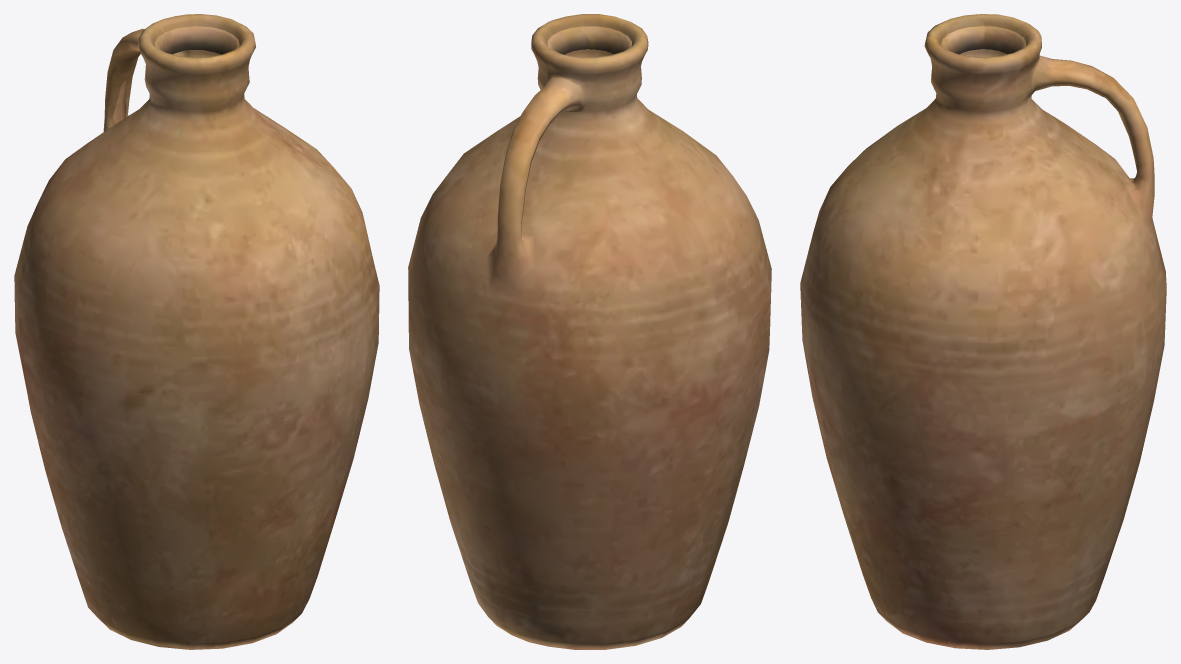
The picture shows the model from 3 angles, left to right: view 1: azimuth 30°, elevation 25°; view 2: azimuth 150°, elevation 25°; view 3: azimuth 270°, elevation 25°; orthographic projection.
Visible parts, largest first — view 1: SM_Pot_02_LOD0; view 2: SM_Pot_02_LOD0; view 3: SM_Pot_02_LOD0.
Boxes of the visible parts, <box> form: SM_Pot_02_LOD0: <box>14,14,379,649</box>; SM_Pot_02_LOD0: <box>408,14,771,649</box>; SM_Pot_02_LOD0: <box>800,14,1166,649</box>.
Bounding box in the file's own units: 0.3898 × 0.6687 × 0.3896.
Materials: 1 (1 with a texture image).
